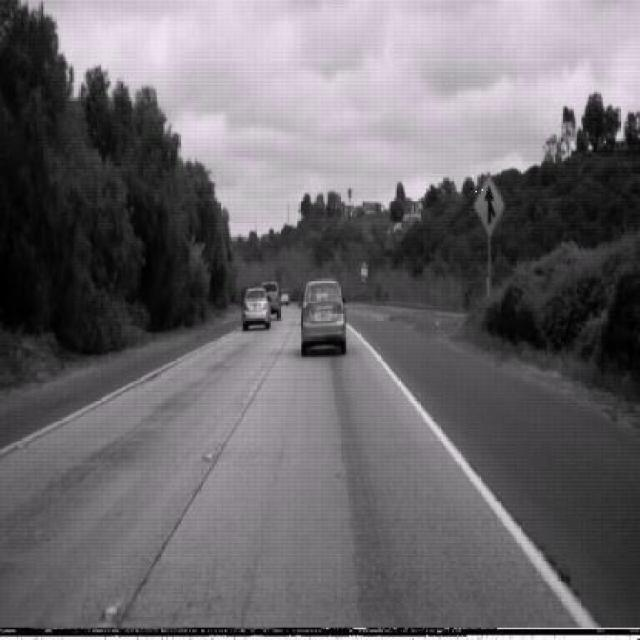merge: (472, 172, 506, 238)
